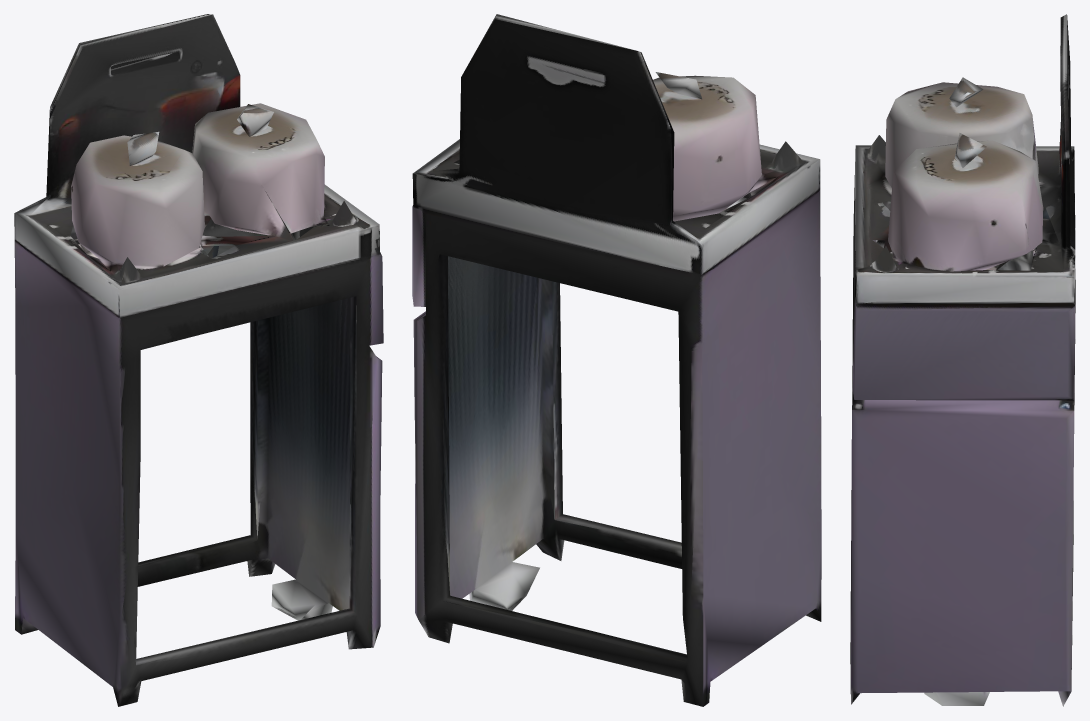
The model's file is 냉장고장.glb.
The picture shows the model from 3 angles, left to right: view 1: azimuth 30°, elevation 25°; view 2: azimuth 150°, elevation 25°; view 3: azimuth 270°, elevation 25°; orthographic projection. The views are drawn at different scales.
Visible parts, largest first — view 1: tripo_node_6bfdd116-ceba-4f7c-bacb-f25c7ff0988e; view 2: tripo_node_6bfdd116-ceba-4f7c-bacb-f25c7ff0988e; view 3: tripo_node_6bfdd116-ceba-4f7c-bacb-f25c7ff0988e.
Boxes of the visible parts, left/top/right/bottom form: tripo_node_6bfdd116-ceba-4f7c-bacb-f25c7ff0988e: left=14, top=14, right=383, bottom=706; tripo_node_6bfdd116-ceba-4f7c-bacb-f25c7ff0988e: left=412, top=14, right=821, bottom=706; tripo_node_6bfdd116-ceba-4f7c-bacb-f25c7ff0988e: left=850, top=14, right=1075, bottom=706.
Bounding box in the file's own units: 0.4847 × 1 × 0.3426.
1 material, 1 textured.
